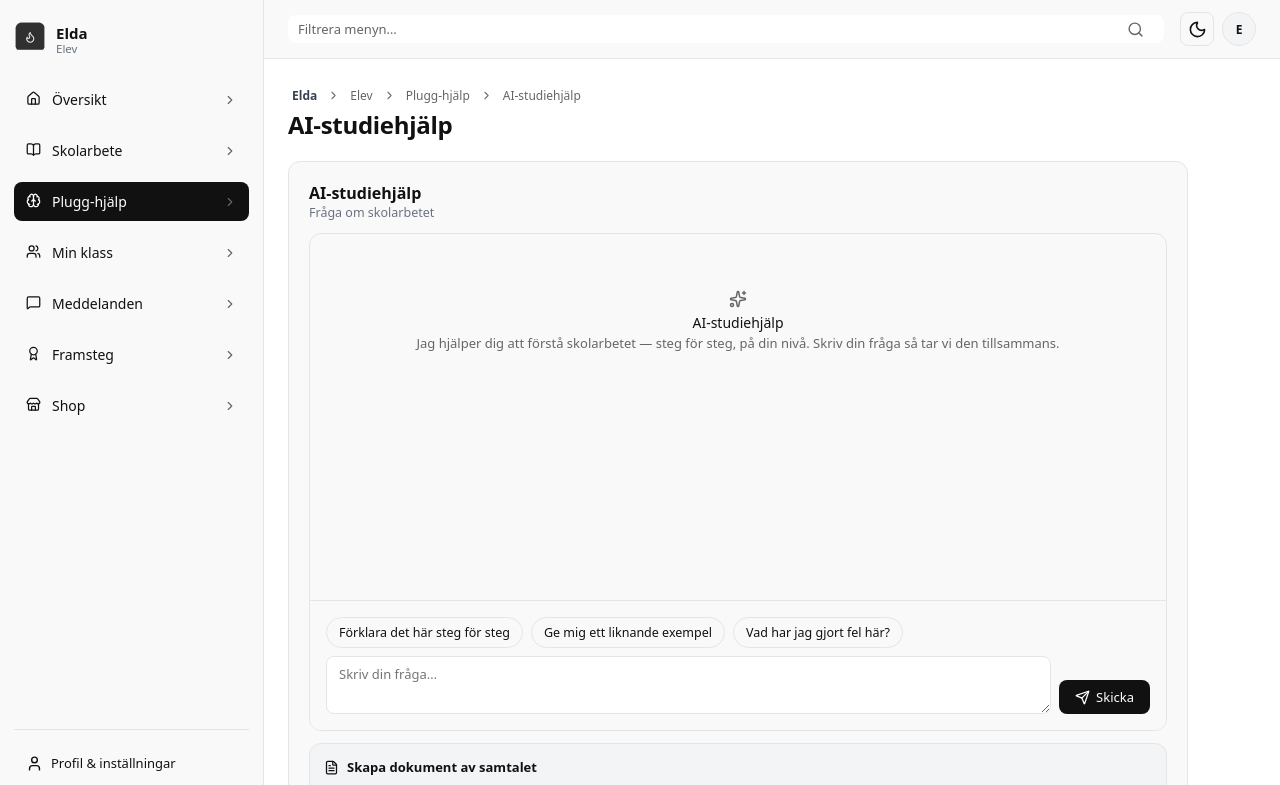
Test: dokument av samtalet › visar ett tydligt fel i stället för en fil när dokumentet inte kan skapas
Type "Vad är ett bråk?" into the text box labelled "fråga" at (689, 685), box [326,656,1051,714]
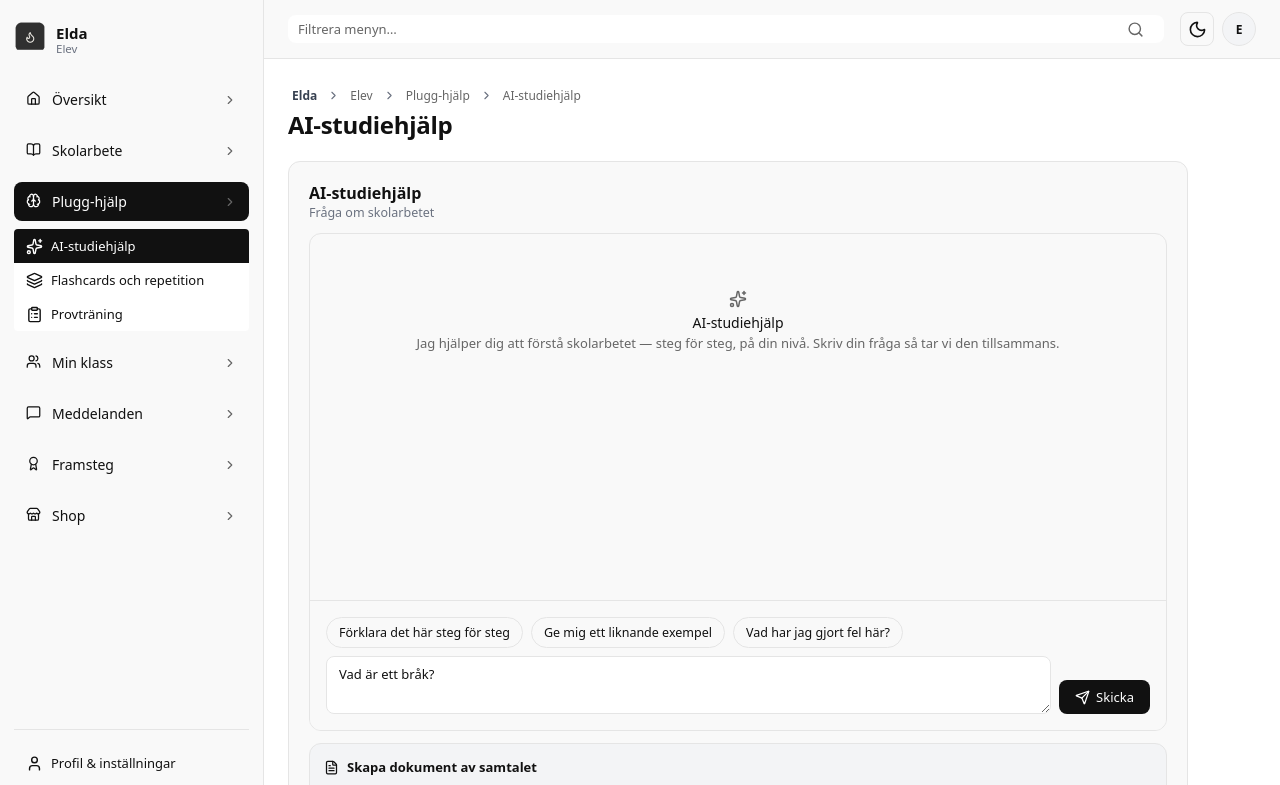
Click the button "Skicka" at (1105, 697), box [1059,680,1150,714]
(page scrolled)
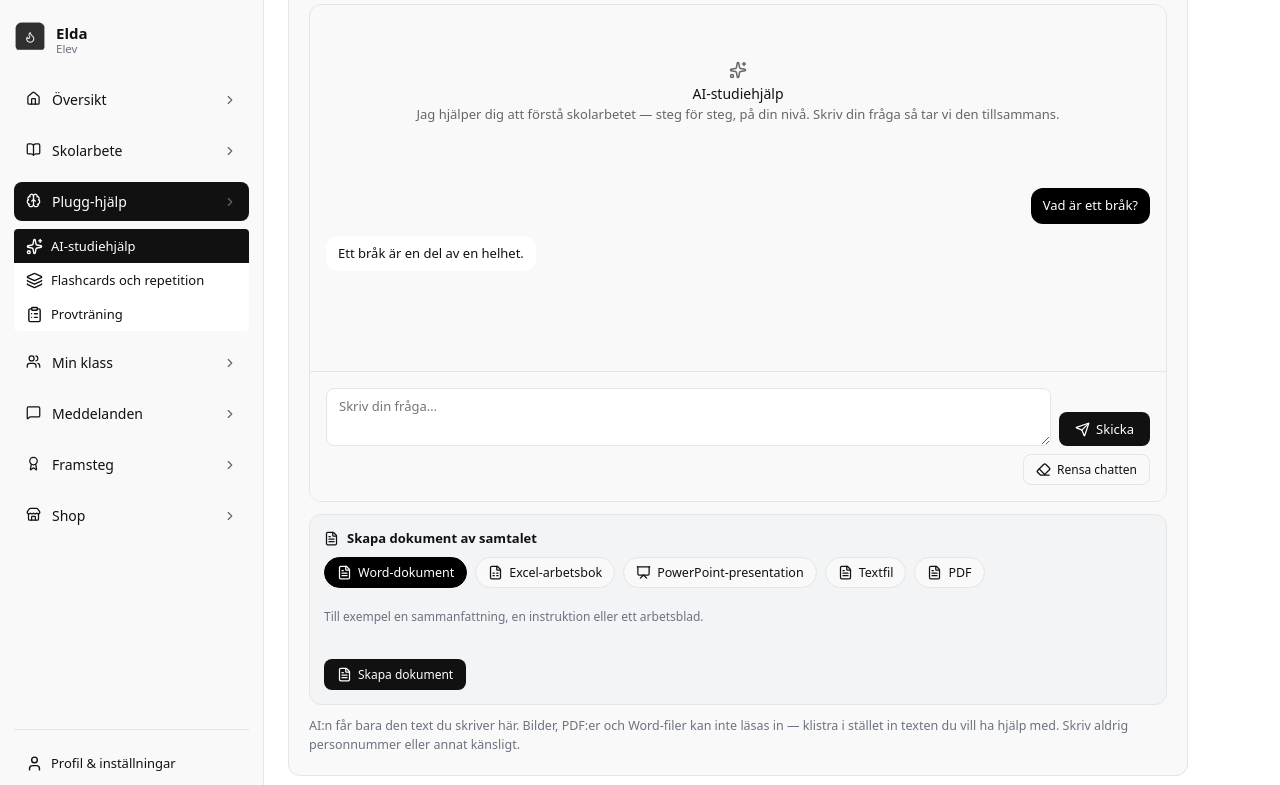
Click the button "Skapa dokument" at (395, 674), box [324,659,466,690]
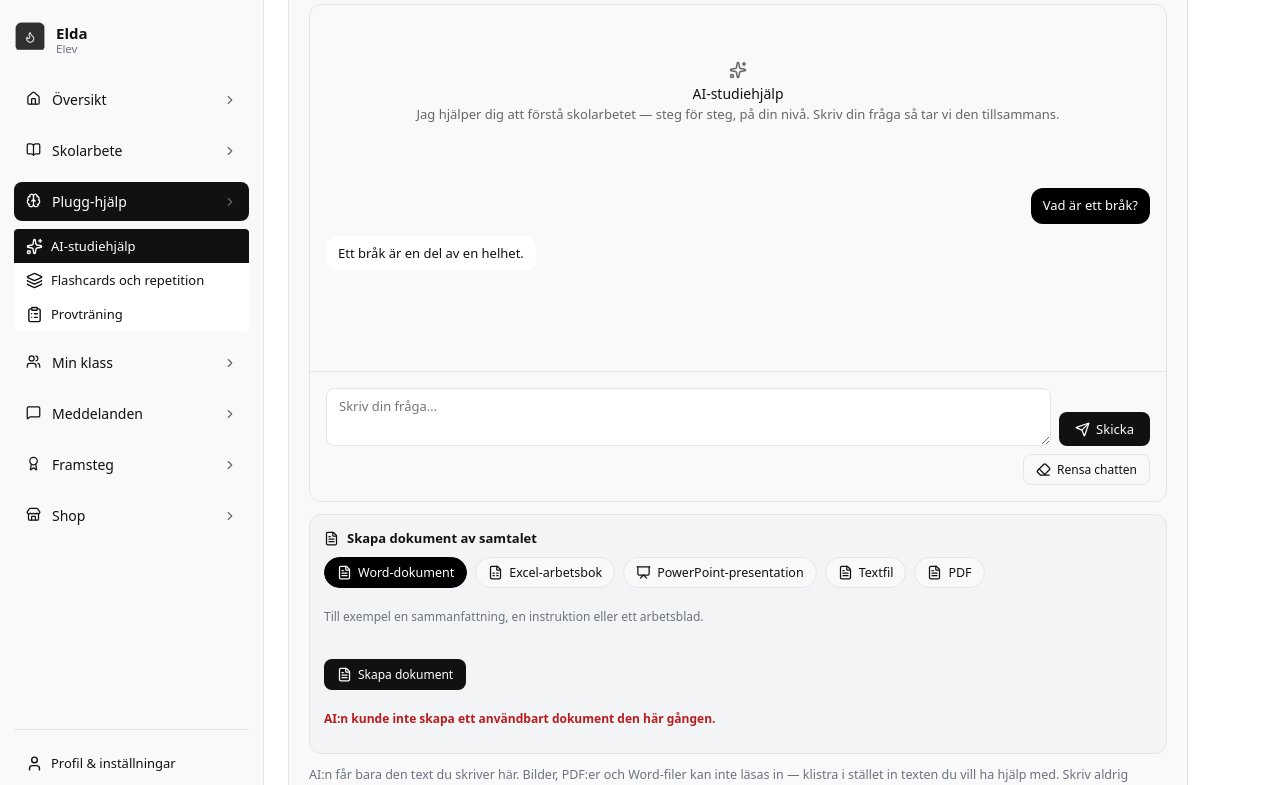
Result: the message with test id "ai-doc-error-elev" shows "kunde inte skapa ett användbart dokument" at [324,710,716,727]
